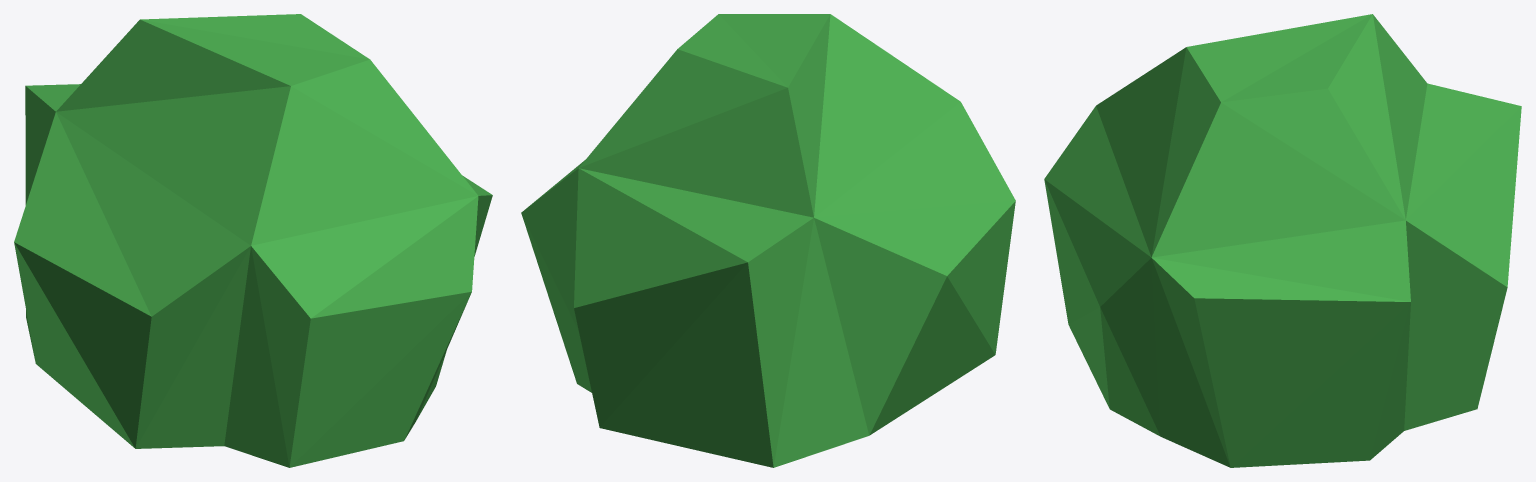
File: bush.glb
3 renders of one model, left to right at view 1: azimuth 30°, elevation 25°; view 2: azimuth 150°, elevation 25°; view 3: azimuth 270°, elevation 25°, orthographic. The views are drawn at different scales.
Parts seen in each view (by area): view 1: group1158573957; view 2: group1158573957; view 3: group1158573957.
Boxes of the visible parts, x1=… form: group1158573957: x1=14, y1=14, x2=492, y2=467; group1158573957: x1=521, y1=14, x2=1015, y2=467; group1158573957: x1=1044, y1=14, x2=1521, y2=467.
Size of the model in its own units: 0.1402 by 0.1214 by 0.1498.
